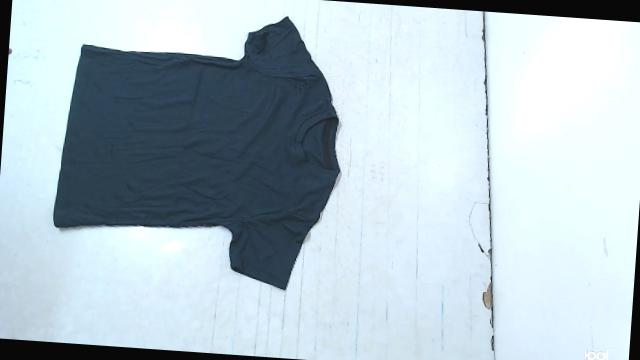new-garment: (53, 17, 338, 288)
